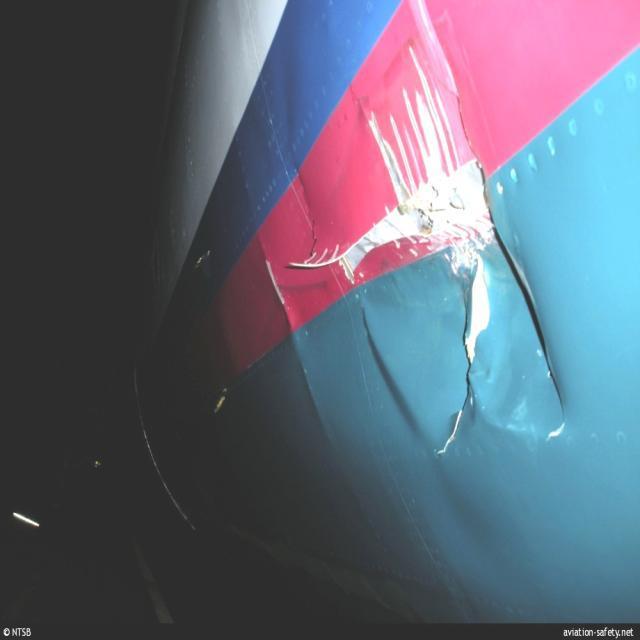crack: (438, 251, 491, 455)
dent: (485, 344, 524, 419), (495, 283, 523, 328)
